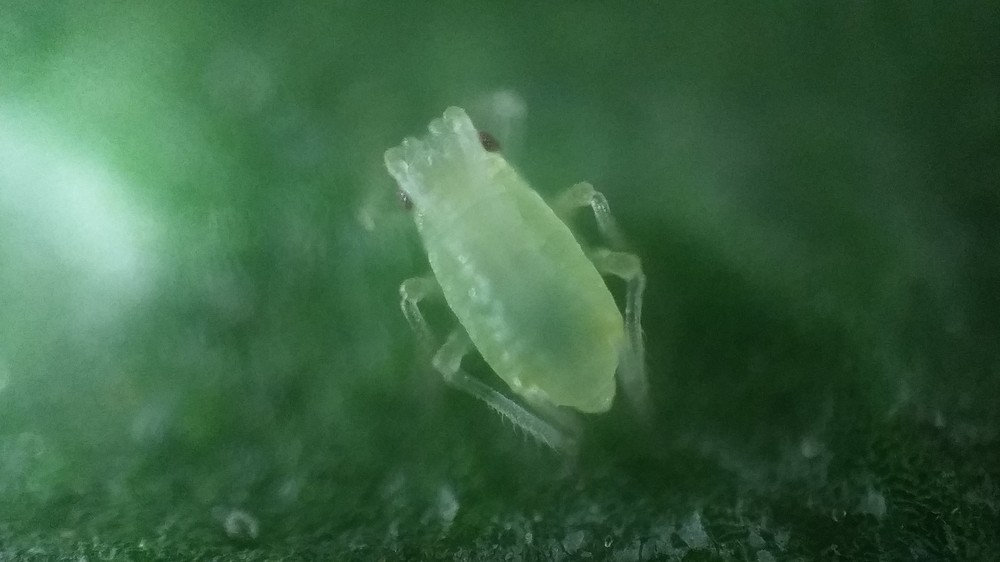Pulgon: (335, 92, 703, 464)
